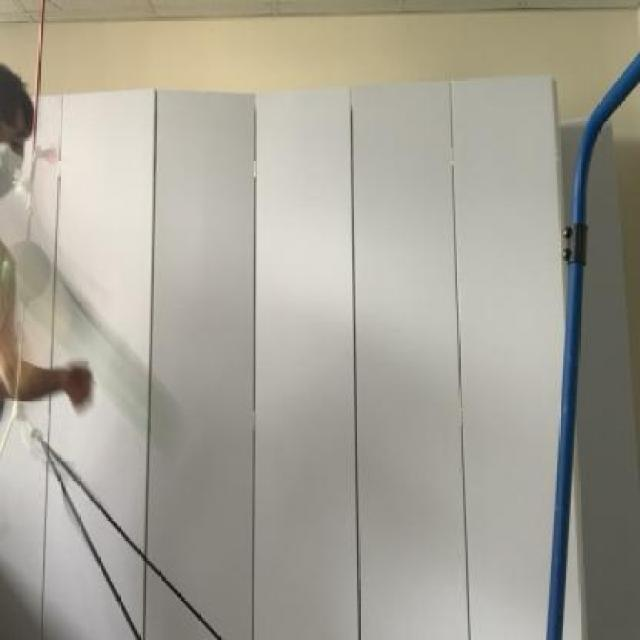baseball: (2, 234, 182, 452)
